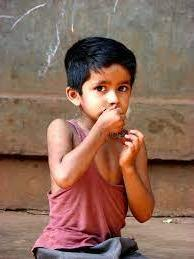Human: (39, 29, 162, 258)
